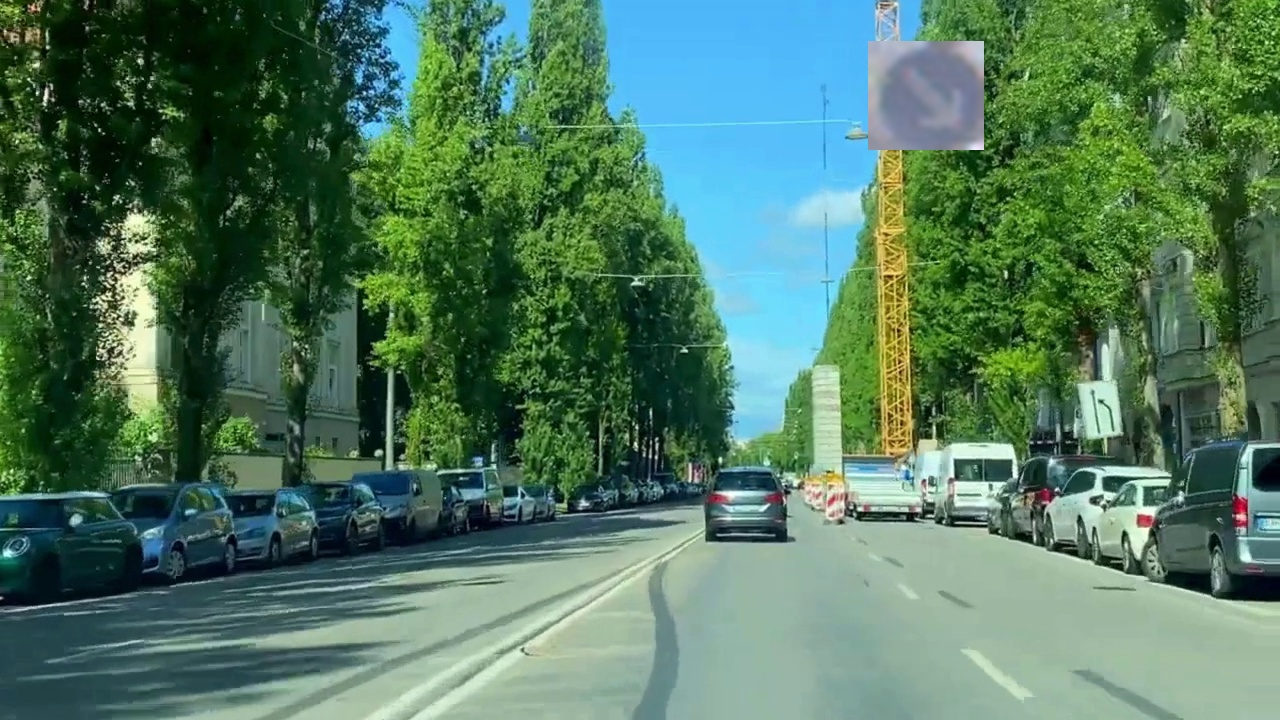Keep right: (868, 41, 984, 150)
